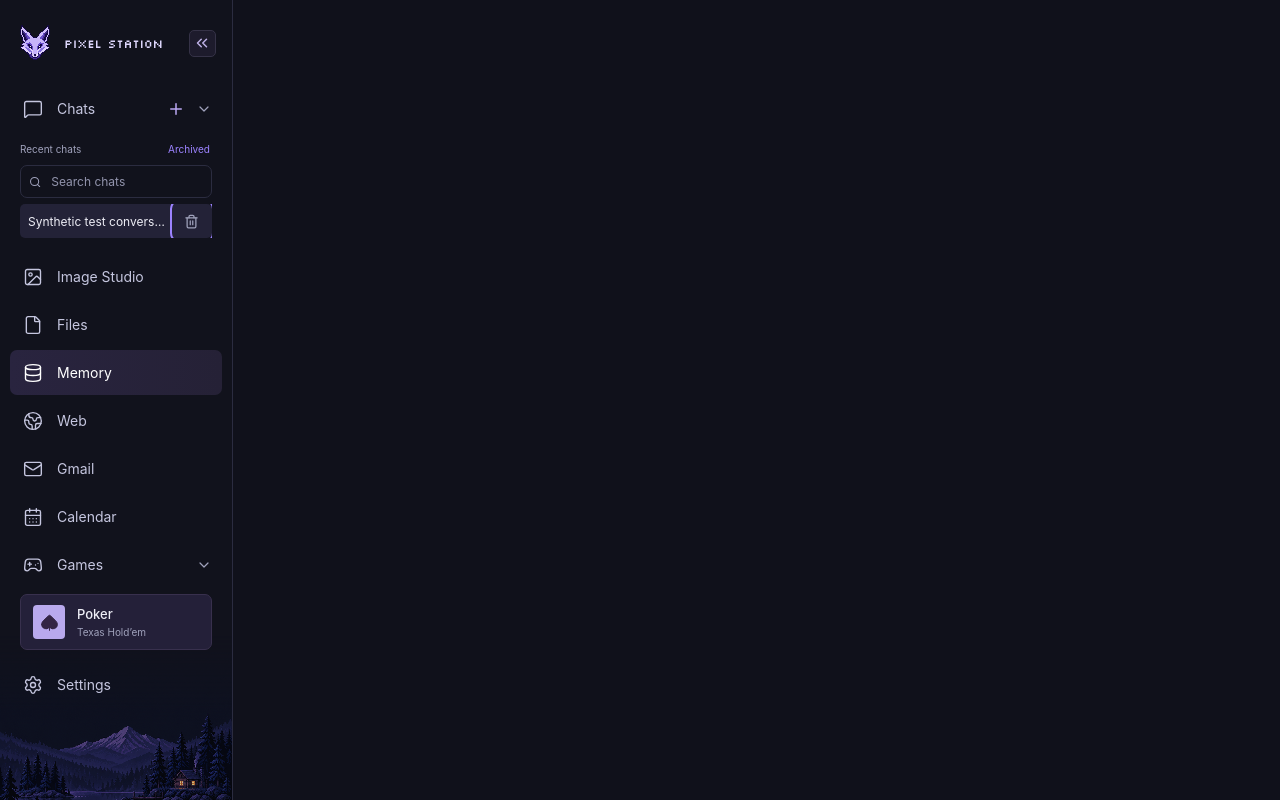
Test: sidebar groups and chat deletion › supports keyboard deletion, requires confirmation, and clears a deleted active chat
This screenshot has width=1280, height=800.
Press Enter
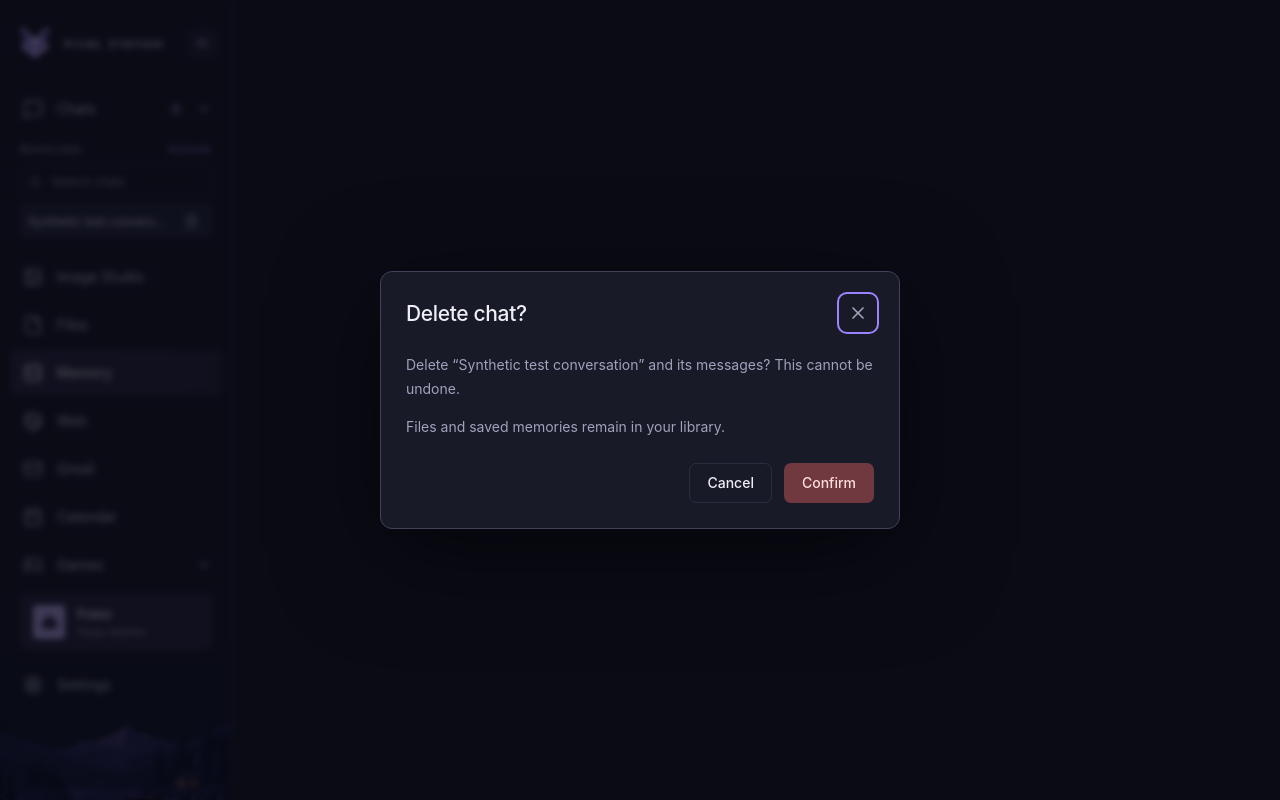
Expected: the dialog "Delete chat?" is shown, [380, 271, 900, 529]
Click the button "Cancel".
click(731, 483)  # box [690, 463, 772, 503]
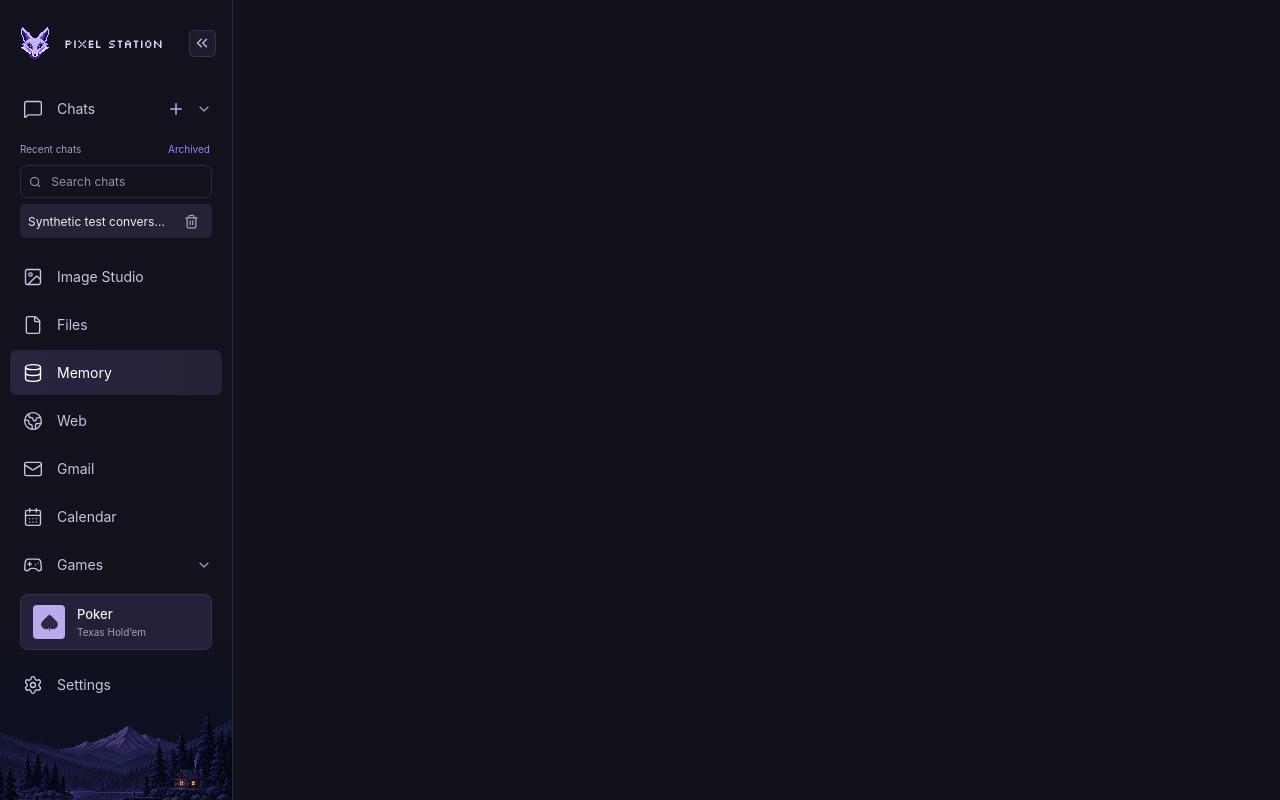
Expected: the dialog is gone
Click the button named "Delete chat Synthetic test conversation".
click(192, 221)  # box [175, 204, 209, 238]
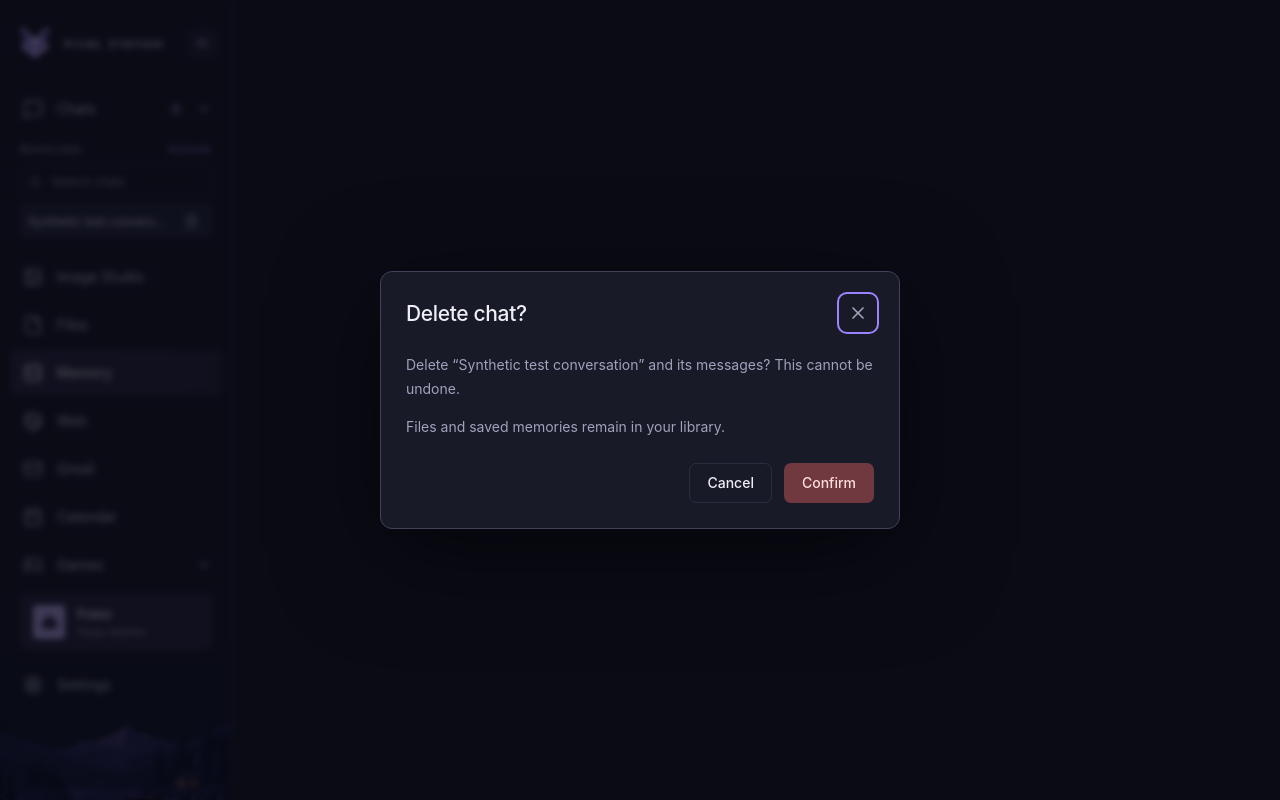
Click the button "Confirm".
click(829, 483)  # box [784, 463, 874, 503]
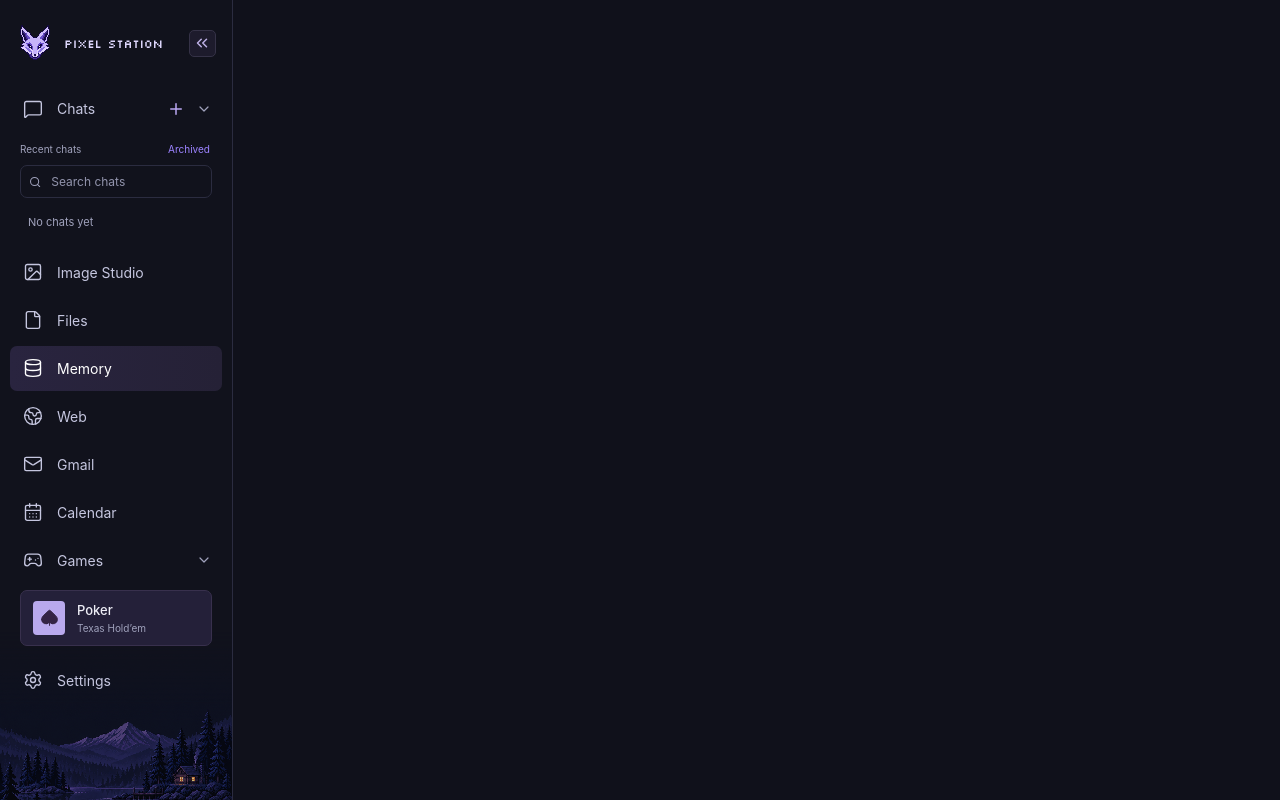
Expected: the dialog is gone
Expected: the button "Synthetic test conversation" is gone
